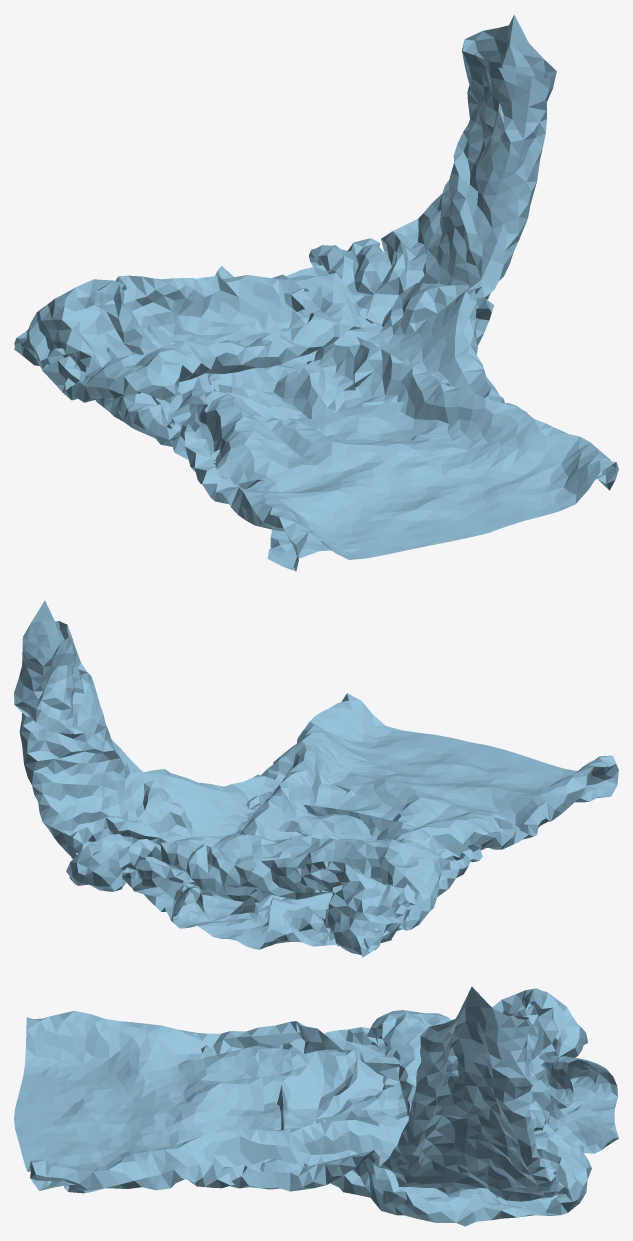
Rendered from frame_06.glb.
3 renders of one model, top to bottom at view 1: azimuth 30°, elevation 25°; view 2: azimuth 150°, elevation 25°; view 3: azimuth 270°, elevation 25°, orthographic. The views are drawn at different scales.
Visible parts, largest first — view 1: frame_06.obj; view 2: frame_06.obj; view 3: frame_06.obj.
Boxes of the visible parts, x1,y1,x2,y2 form: frame_06.obj: (14, 14, 618, 571); frame_06.obj: (14, 600, 618, 957); frame_06.obj: (14, 986, 618, 1226).
Bounding box in the file's own units: 1.25 × 0.7126 × 1.43.
